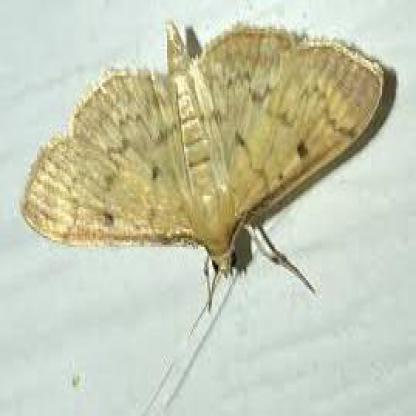Leaf Webber: (19, 15, 393, 287)
